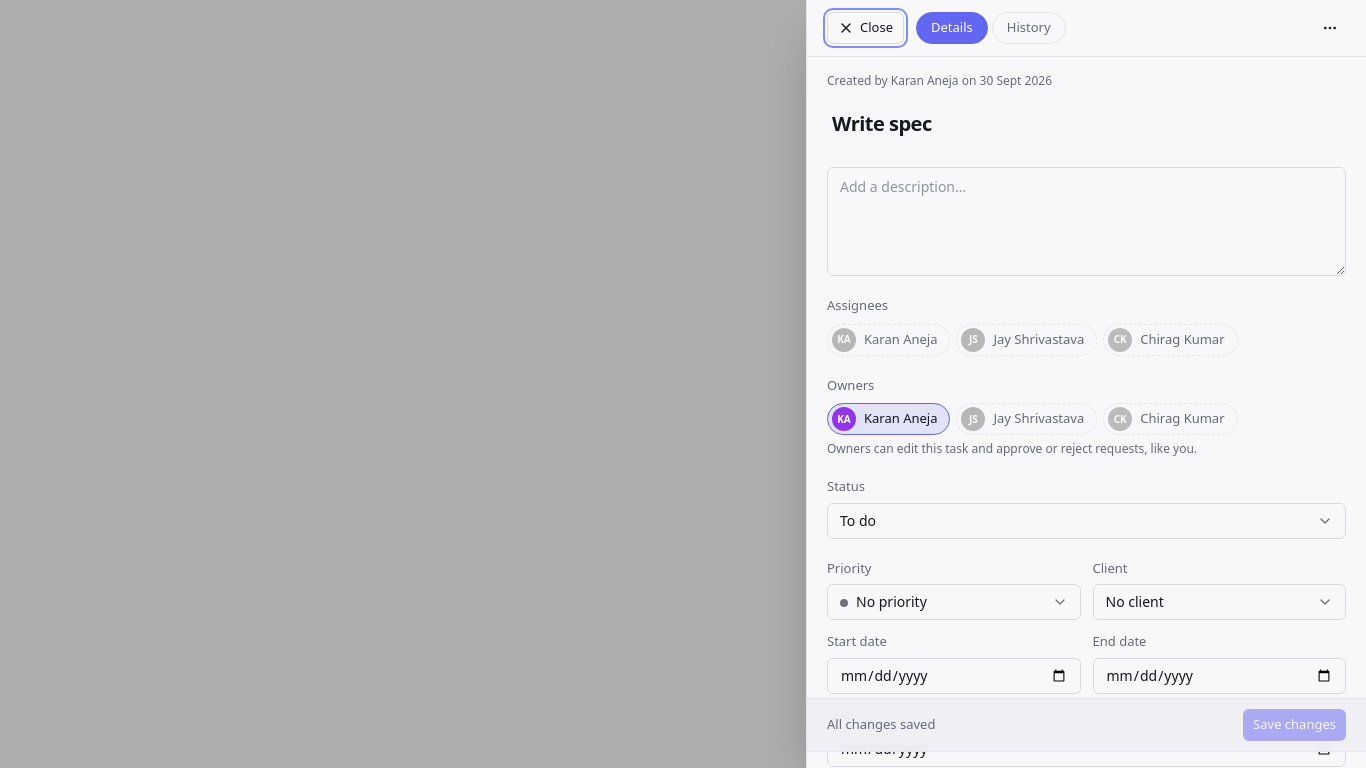
task panel: editing › offers to keep or discard my edits when someone else saved first
Type " (mine)" into the text box named "Title" at point(1086, 124), box [827,101,1346,147]
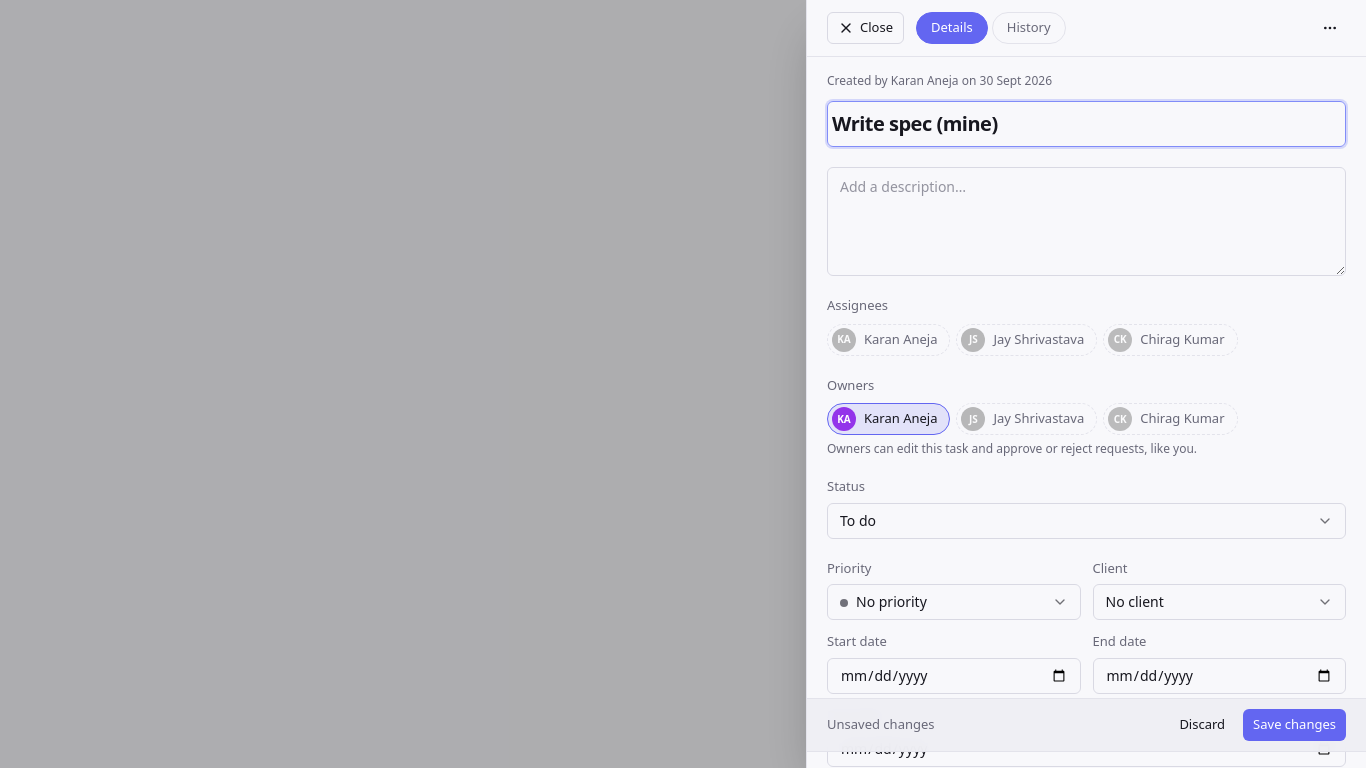
Click the button "Save changes" at point(1295, 725), box [1243,709,1346,741]
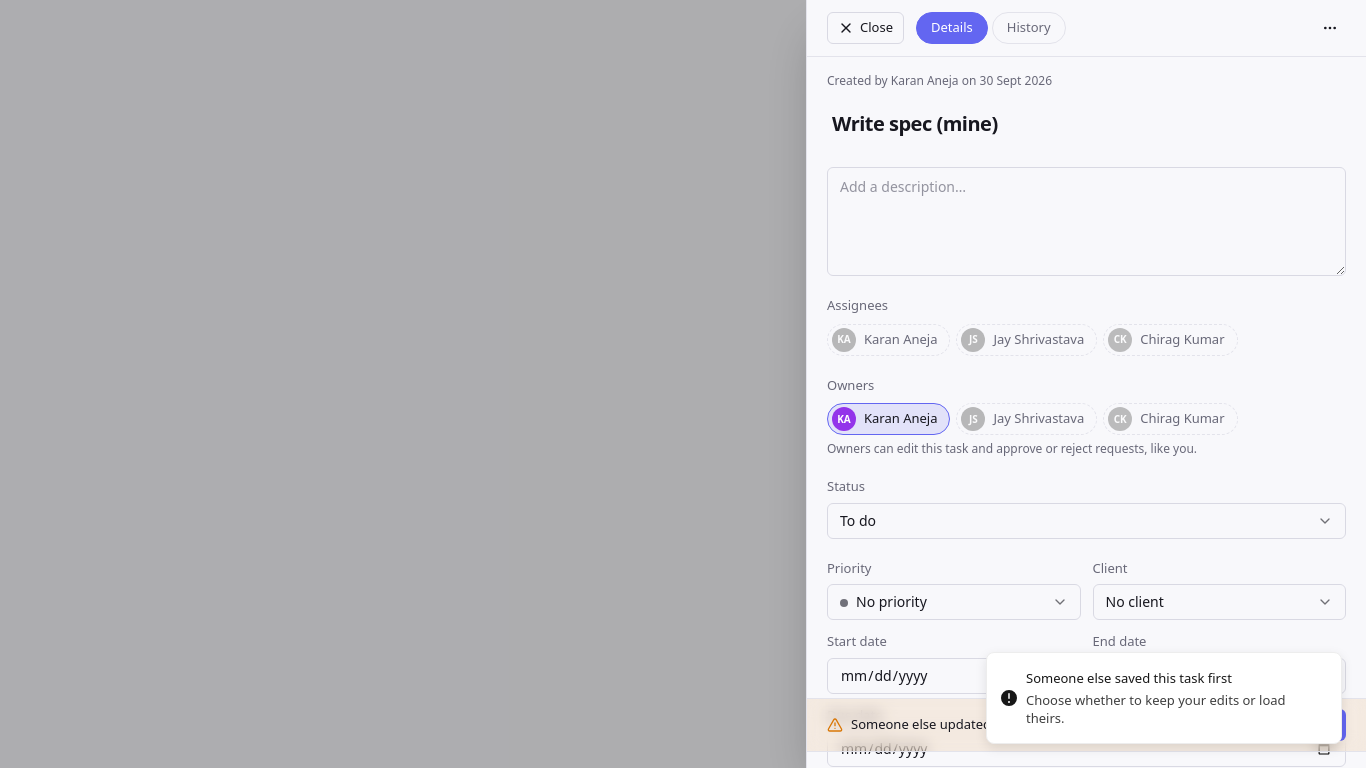
Result: the text box showing "Write spec (mine)" is shown at [827,101,1346,147]
Result: the text "Someone else updated this task." is shown at [827,715,1049,735]
Click the button "Keep my edits" at point(1293, 725), box [1240,709,1346,741]
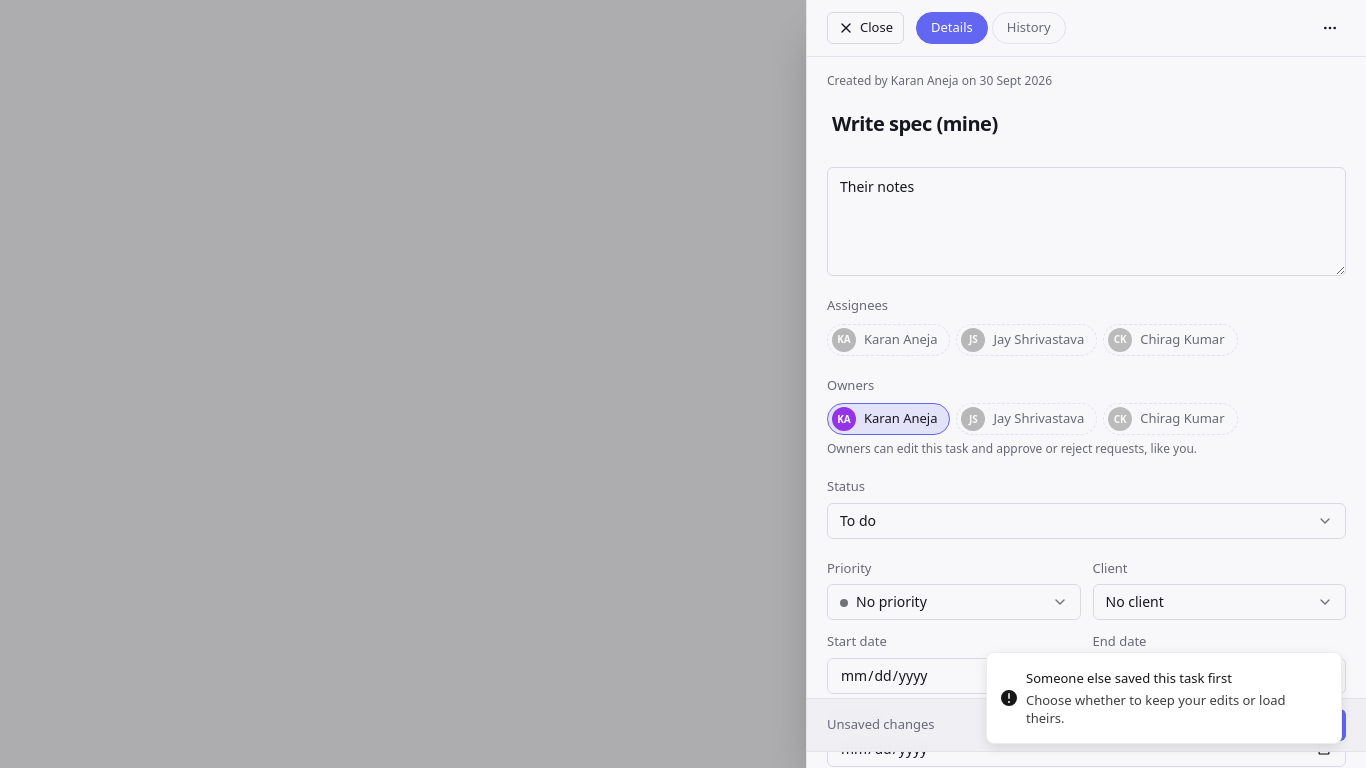
Result: the 1st text box showing "Write spec (mine)" is shown at [827,101,1346,147]
Result: the 2nd text box showing "Their notes" is shown at [827,167,1346,276]
Click the button "Save changes" at point(1295, 725), box [1243,709,1346,741]
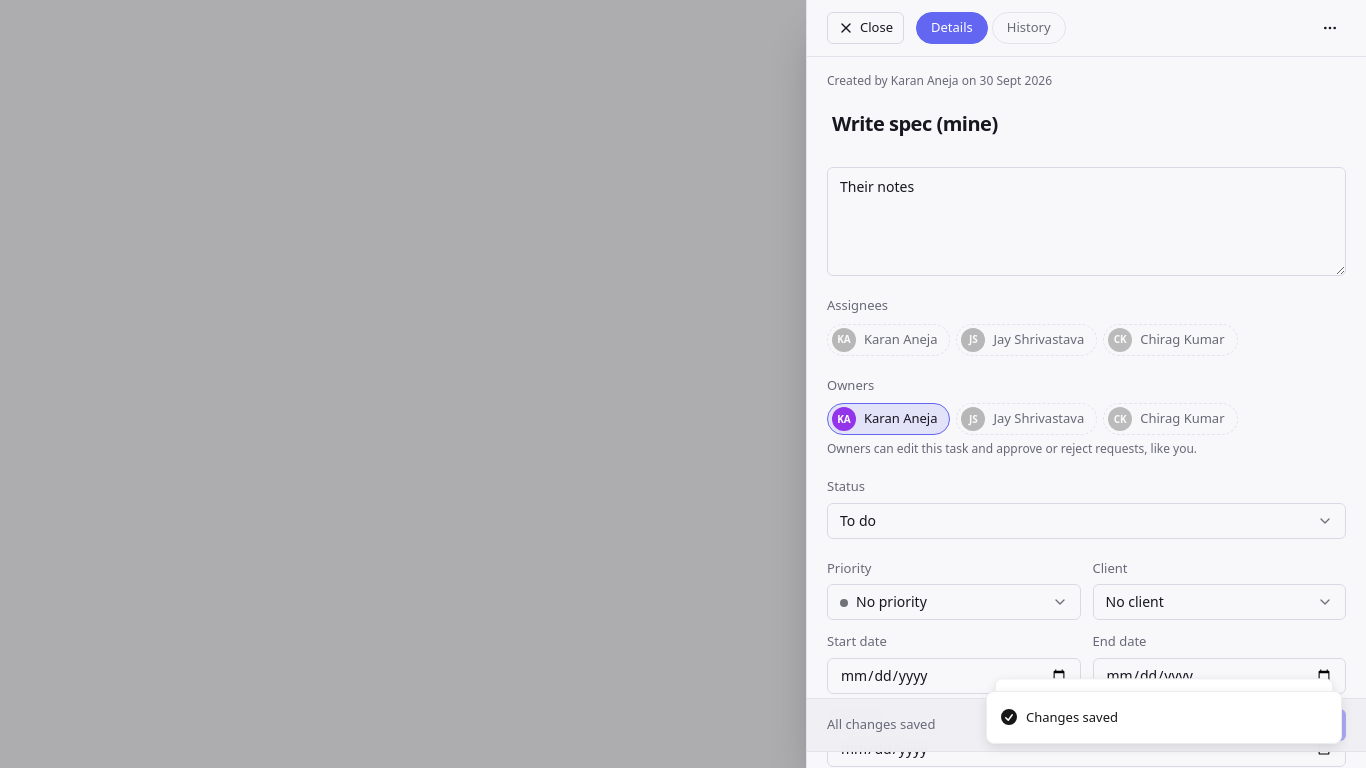
Result: the text "Changes saved" is shown at [1026,708,1118,727]
